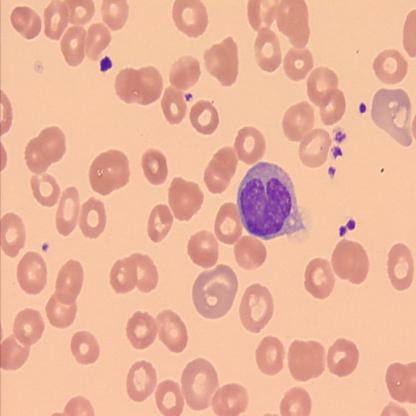Monocyte: (235, 160, 307, 244)
